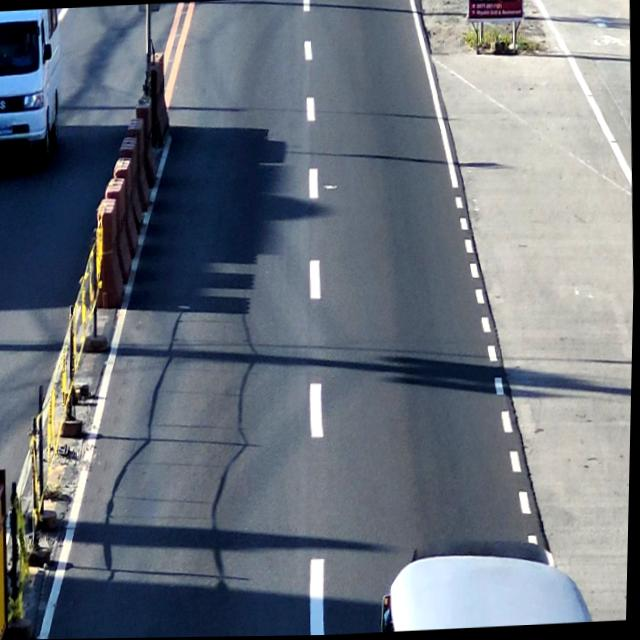Jeep: (384, 535, 597, 633)
